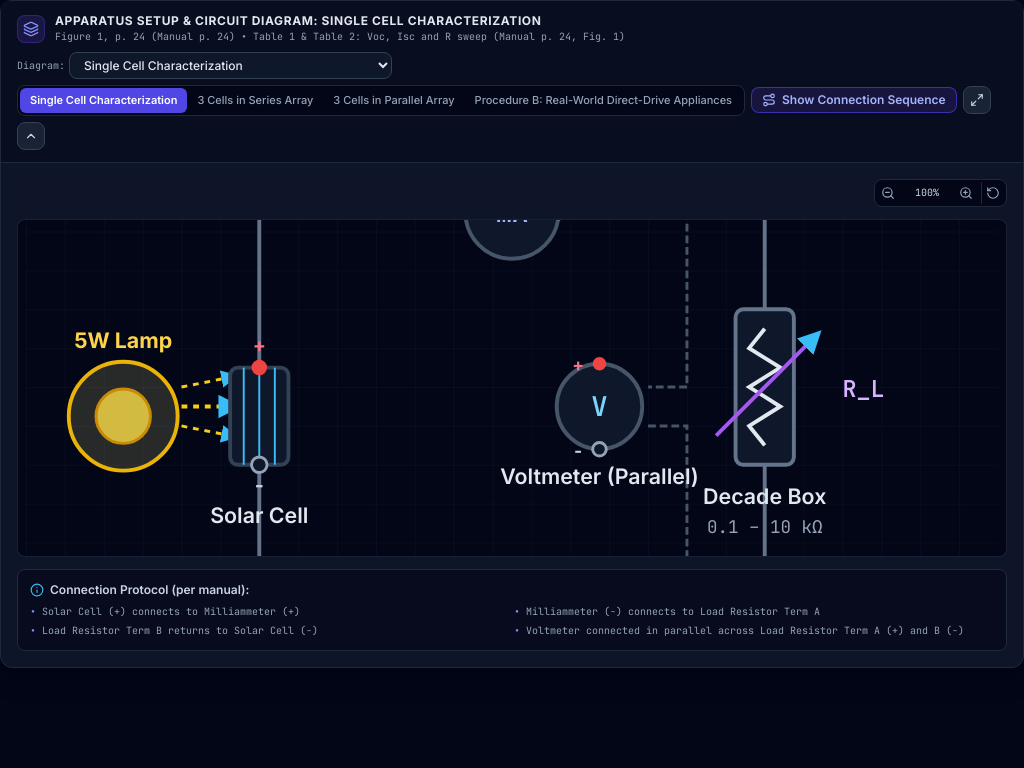
Scenario: Reusable Instructional & Guided Lab System › 4. SetupDiagramPanel Apparatus Diagram Viewer › opens and closes expanded modal view
The image size is (1024, 768).
Click the button named "Expand diagram modal".
click(977, 100)  # box [963, 86, 991, 114]
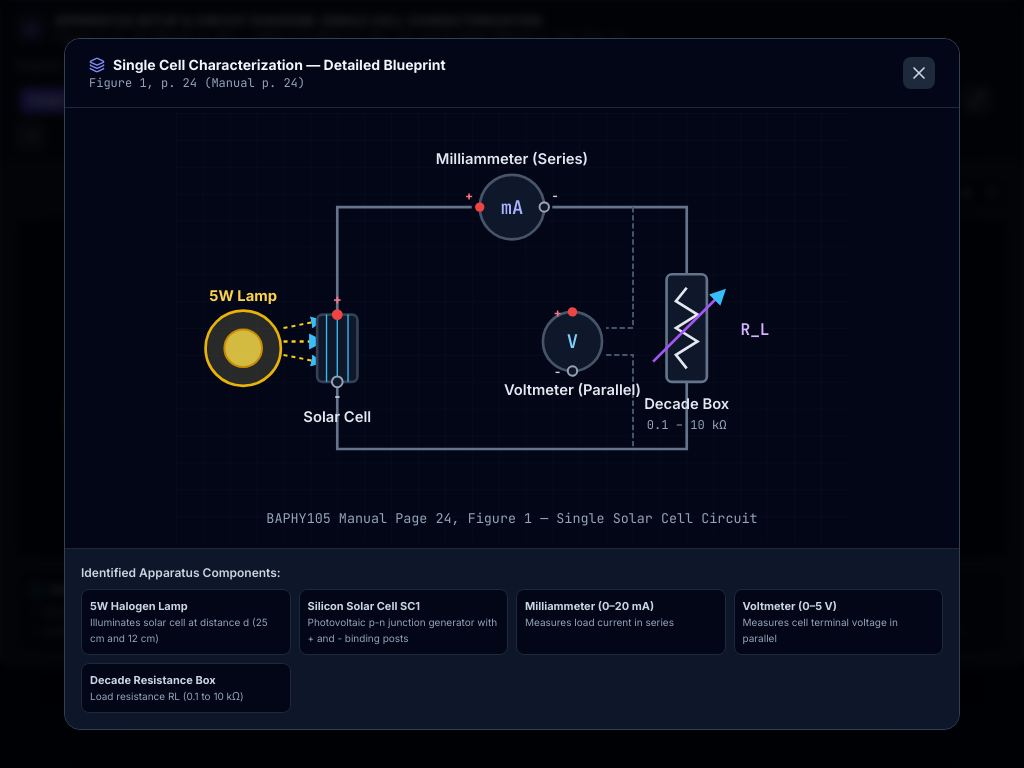
Expected: the dialog named "Expanded Apparatus Setup Diagram" is shown
Expected: the text "Identified Apparatus Components:" is shown, [81, 565, 281, 580]
Note: Close modal
Click the button named "Close expanded diagram modal".
click(919, 73)  # box [903, 57, 935, 89]
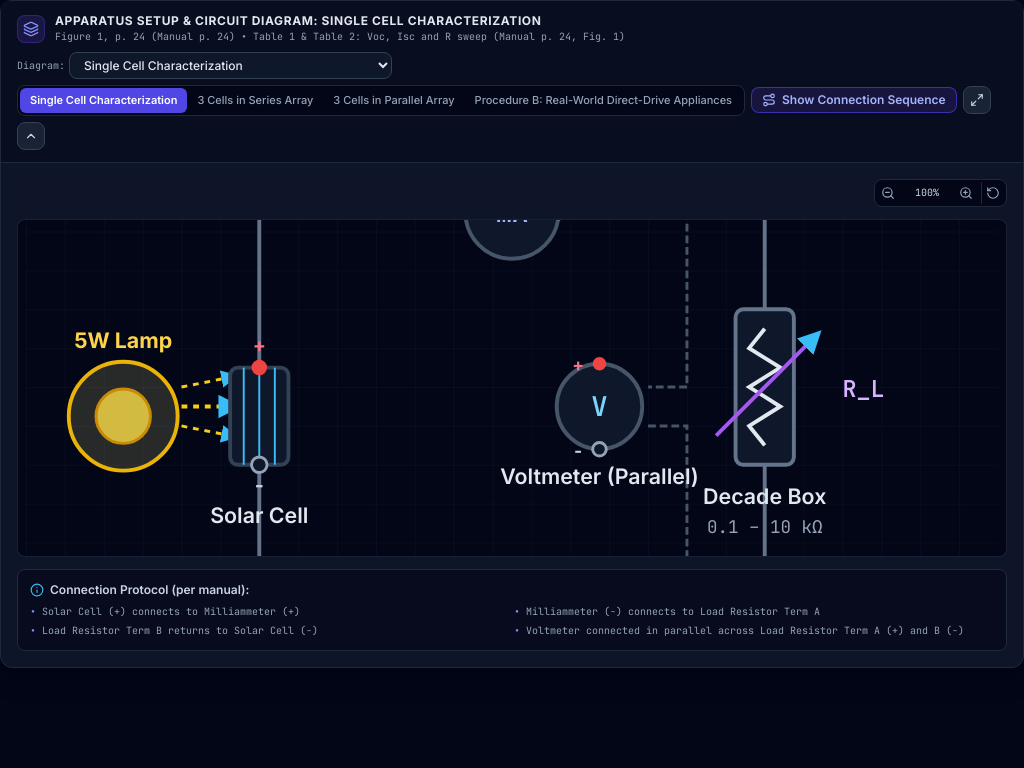
Expected: the dialog is gone
